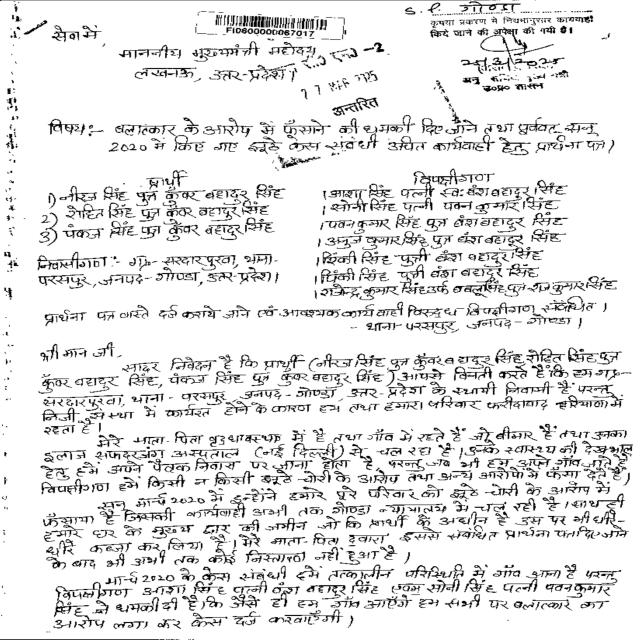antritgovtstamp: (241, 42, 419, 120)
barcode: (194, 13, 346, 42)
signnamestamp: (453, 32, 580, 96)
